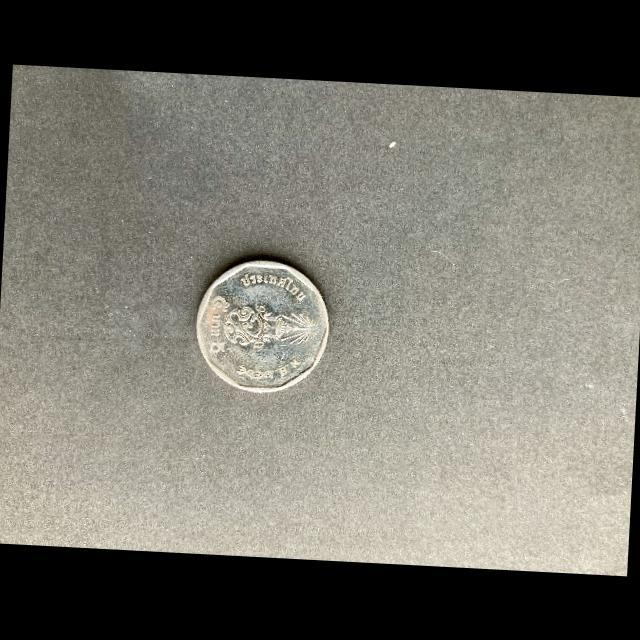5 Bath: (193, 258, 334, 395)
